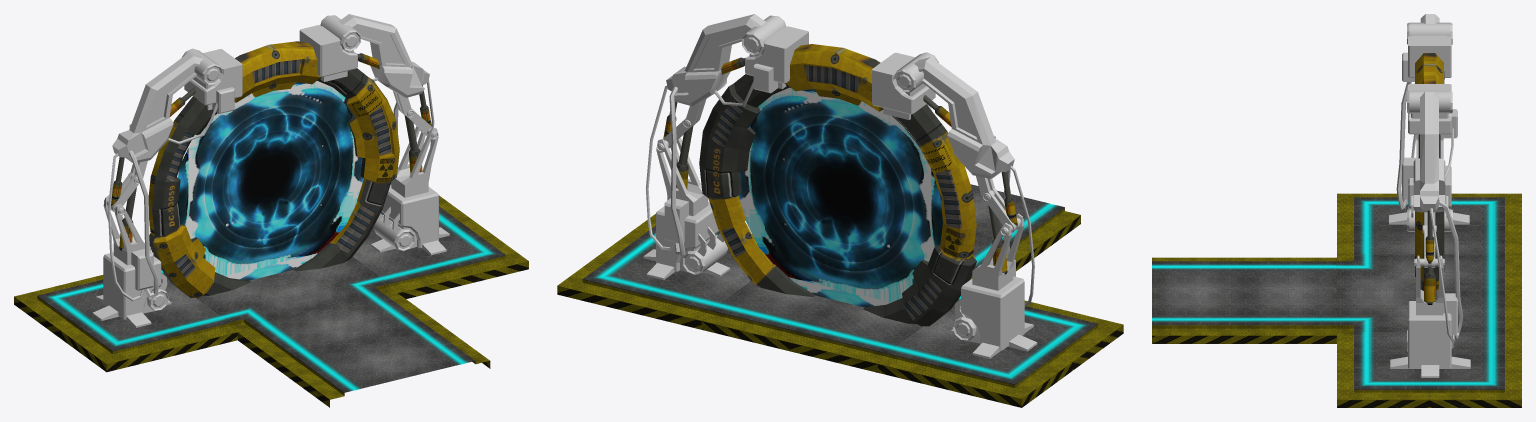
The model's file is PortalGate.FBX.
3 views of the same model, side by side, from view 1: azimuth 30°, elevation 25°; view 2: azimuth 150°, elevation 25°; view 3: azimuth 270°, elevation 25° (orthographic). The views are drawn at different scales.
Parts seen in each view (by area): view 1: Cylinder005, Circle001, Plane036, Box005, Box006, Plane037, Plane033, Plane032; view 2: Cylinder005, Circle001, Box005, Box006, Plane037, Plane032, Plane033, Plane036; view 3: Plane036, Plane033, Plane032, Box006, Plane037, Box005, Circle001.
Part boxes in pixels (box(x1,y1,x2,y2)): Cylinder005: box(178, 81, 363, 280); Circle001: box(148, 41, 399, 297); Plane036: box(237, 293, 490, 407); Box005: box(92, 48, 242, 327); Box006: box(299, 14, 449, 255); Plane037: box(14, 273, 237, 372); Plane033: box(353, 195, 528, 298); Plane032: box(161, 257, 396, 331); Cylinder005: box(738, 87, 942, 307); Circle001: box(699, 44, 976, 326); Box005: box(872, 52, 1037, 358); Box006: box(643, 14, 808, 279); Plane037: box(877, 299, 1123, 407); Plane032: box(701, 281, 960, 372); Plane033: box(557, 214, 773, 329); Plane036: box(970, 184, 1080, 279); Plane036: box(1152, 257, 1336, 343); Plane033: box(1337, 332, 1521, 407); Plane032: box(1337, 254, 1521, 335); Box006: box(1390, 84, 1470, 377); Plane037: box(1337, 193, 1521, 257); Box005: box(1389, 14, 1469, 231); Circle001: box(1415, 53, 1444, 290).
Size of the model in its own units: 1351 by 769 by 1024.
